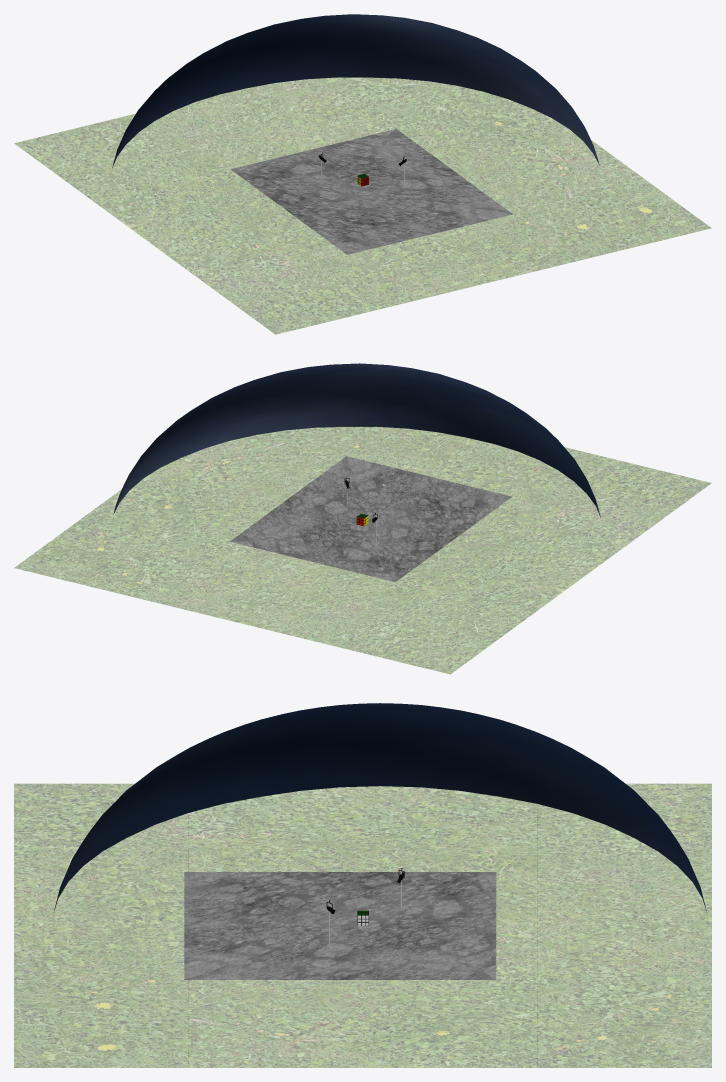
3 views of the same model, one above another, from view 1: azimuth 30°, elevation 25°; view 2: azimuth 150°, elevation 25°; view 3: azimuth 270°, elevation 25° (orthographic). The views are drawn at different scales.
Visible parts, largest first — view 1: Plane001, SkyBox, MarmSurface; view 2: Plane001, SkyBox, MarmSurface; view 3: Plane001, SkyBox, MarmSurface.
Boxes of the visible parts, <box> form: Plane001: <box>14,77,711,334</box>; SkyBox: <box>112,14,599,168</box>; MarmSurface: <box>231,129,512,254</box>; Plane001: <box>14,426,711,674</box>; SkyBox: <box>113,363,600,517</box>; MarmSurface: <box>230,456,511,581</box>; Plane001: <box>14,783,711,1067</box>; SkyBox: <box>54,703,707,913</box>; MarmSurface: <box>184,872,496,979</box>.
Bounding box in the file's own units: 2499 × 734 × 2594.
16 materials, 3 textured.
